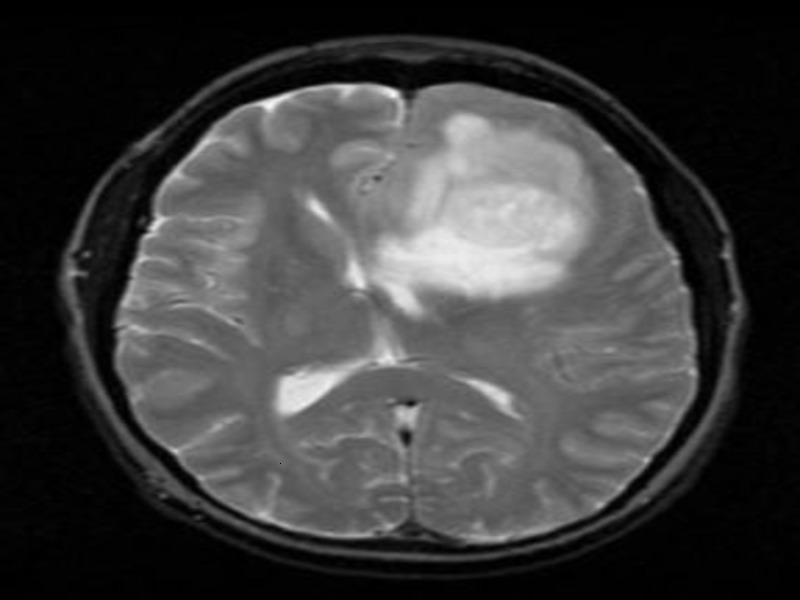tumor: (398, 109, 596, 321)
